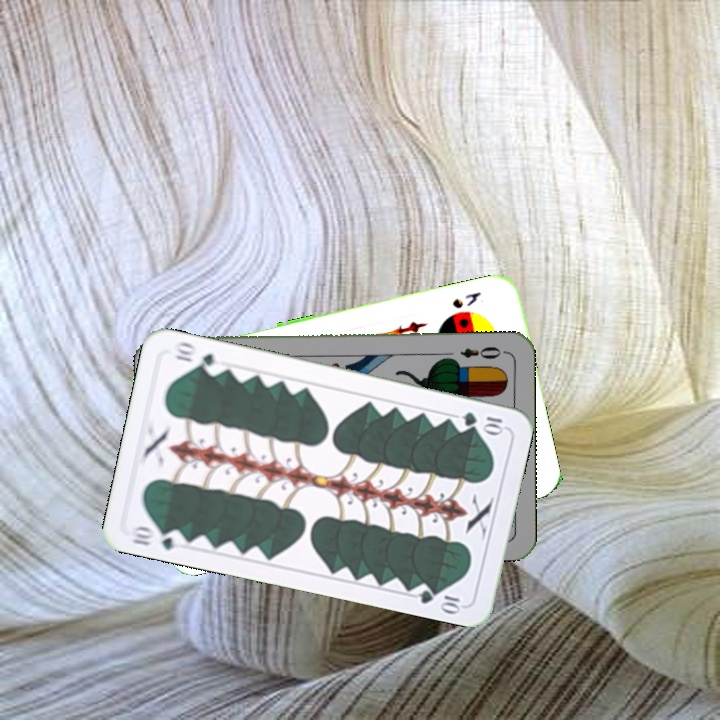EO: (456, 342, 503, 362)
G10: (127, 522, 187, 553), (459, 408, 507, 435)
SK: (448, 288, 483, 311)
